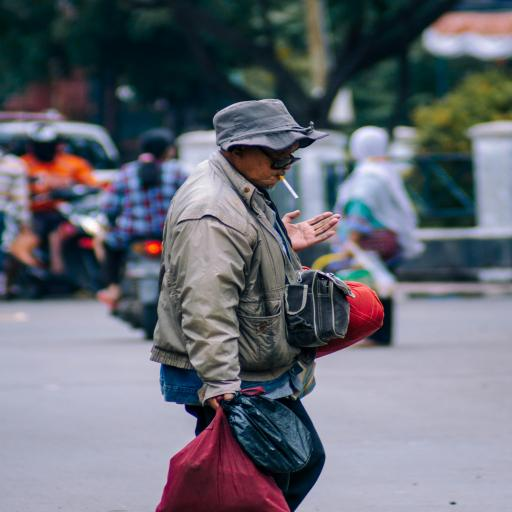dataset-deteksi-merokok: (232, 108, 316, 209)
